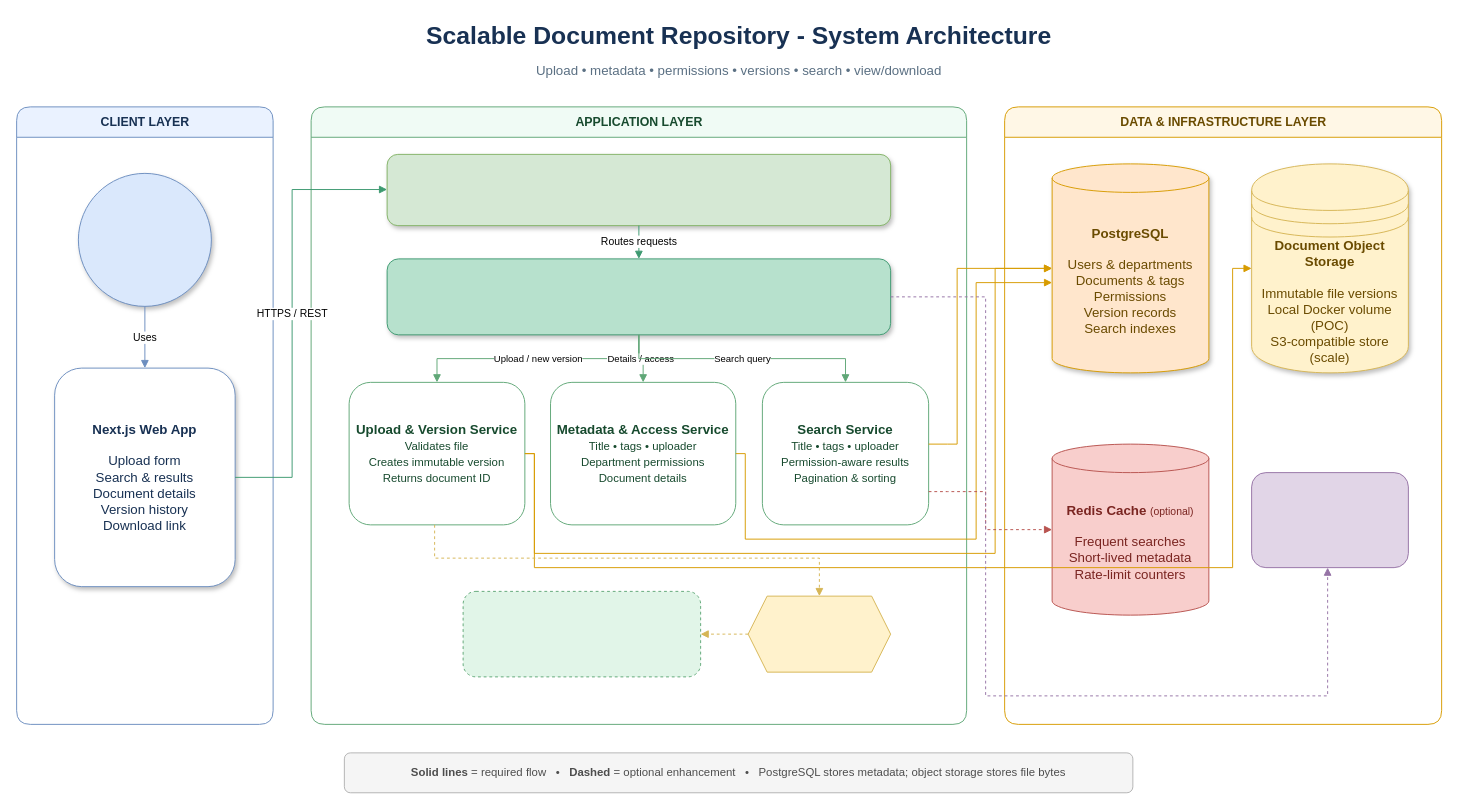
Image size: 1458x809. Some labels were removed from this diagram. The centre of each missing label's shape, as x and y in pixels:
Background Worker (optional) Virus scan • preview metadata extraction: (x=581, y=633)
Employee Uploader / reader: (x=145, y=241)
Job Queue Async processing: (x=819, y=633)
Logs & Monitoring Audit events • errors • metrics: (x=1329, y=520)
Node.js REST API Stateless containers • validation • authentication context: (x=639, y=298)
Reverse Proxy / Load Balancer TLS • routing • rate limits: (x=639, y=191)
